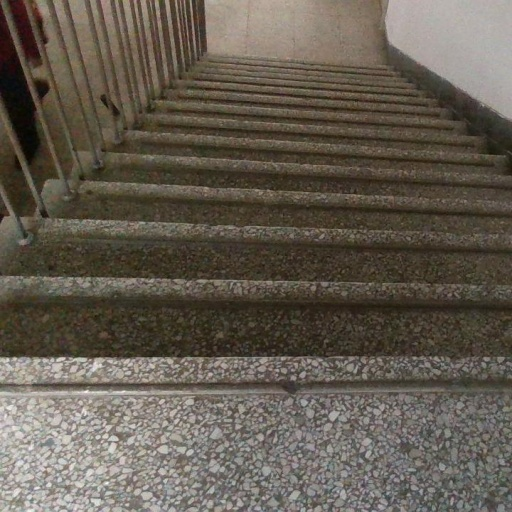Stairs: (0, 58, 512, 512)
